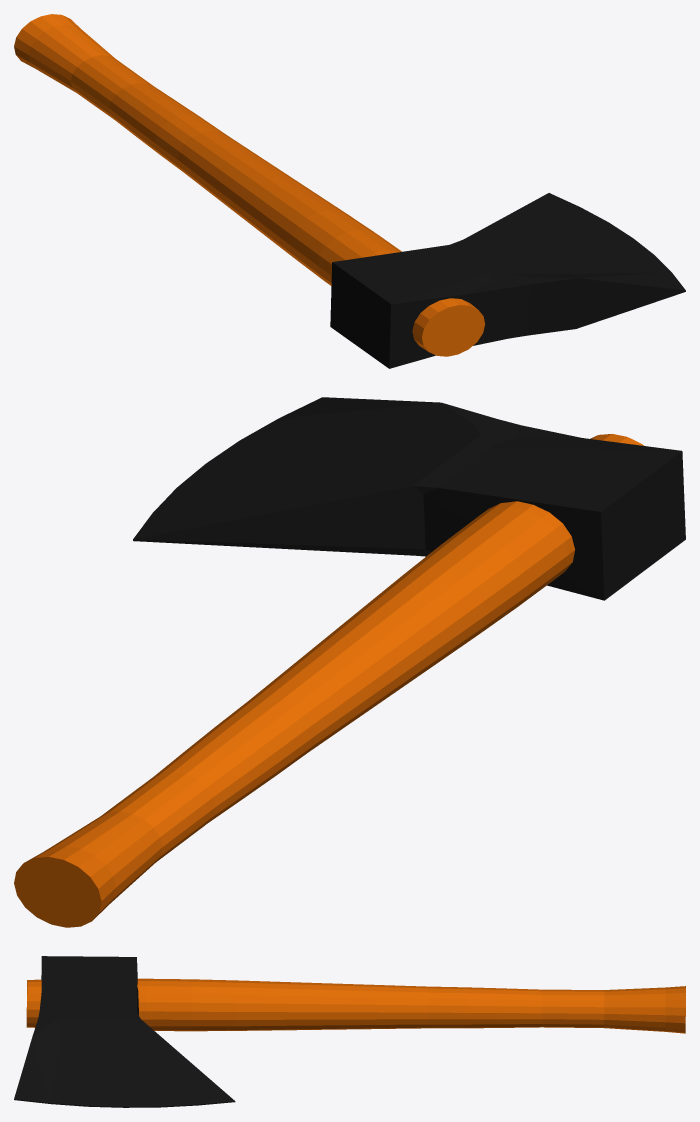
The model's file is Hatchet.obj.
The picture shows the model from 3 angles, top to bottom: view 1: azimuth 30°, elevation 25°; view 2: azimuth 150°, elevation 25°; view 3: azimuth 270°, elevation 25°; orthographic projection. The views are drawn at different scales.
Parts seen in each view (by area): view 1: Box001, Cylinder001; view 2: Box001, Cylinder001; view 3: Cylinder001, Box001.
Part boxes in pixels (left/top/right/bottom): Box001: left=330, top=193, right=685, bottom=368; Cylinder001: left=14, top=14, right=485, bottom=356; Box001: left=133, top=397, right=685, bottom=600; Cylinder001: left=14, top=434, right=643, bottom=927; Cylinder001: left=26, top=978, right=685, bottom=1033; Box001: left=14, top=956, right=235, bottom=1107.
Bounding box in the file's own units: 300308 × 63245 × 731557.
